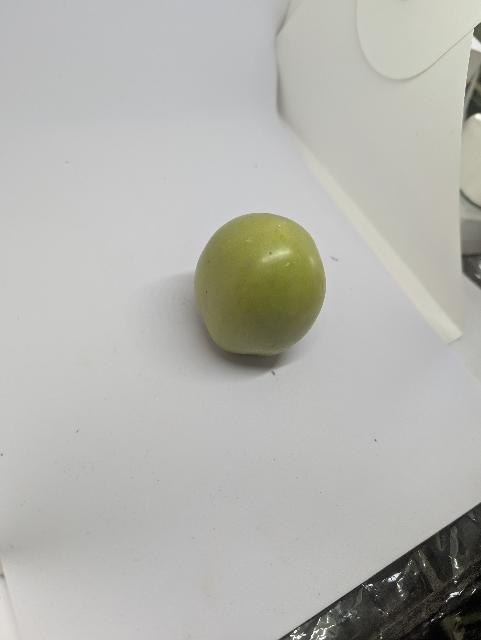green: (182, 205, 336, 372)
